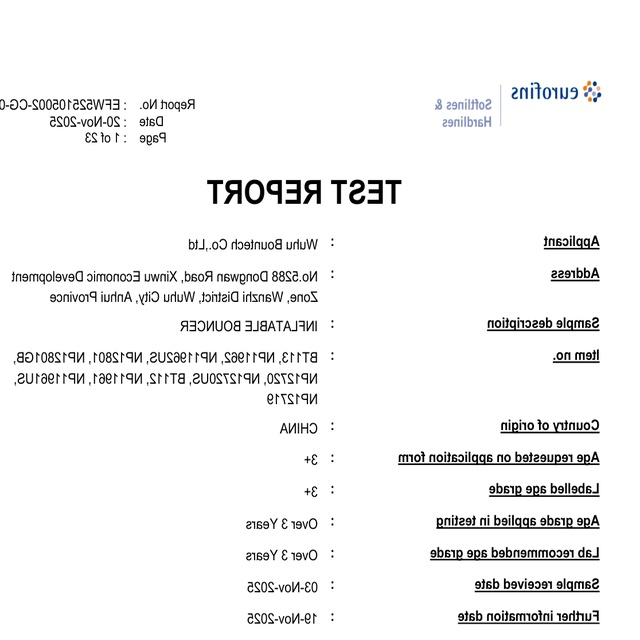eurofins: (505, 77, 612, 109)
